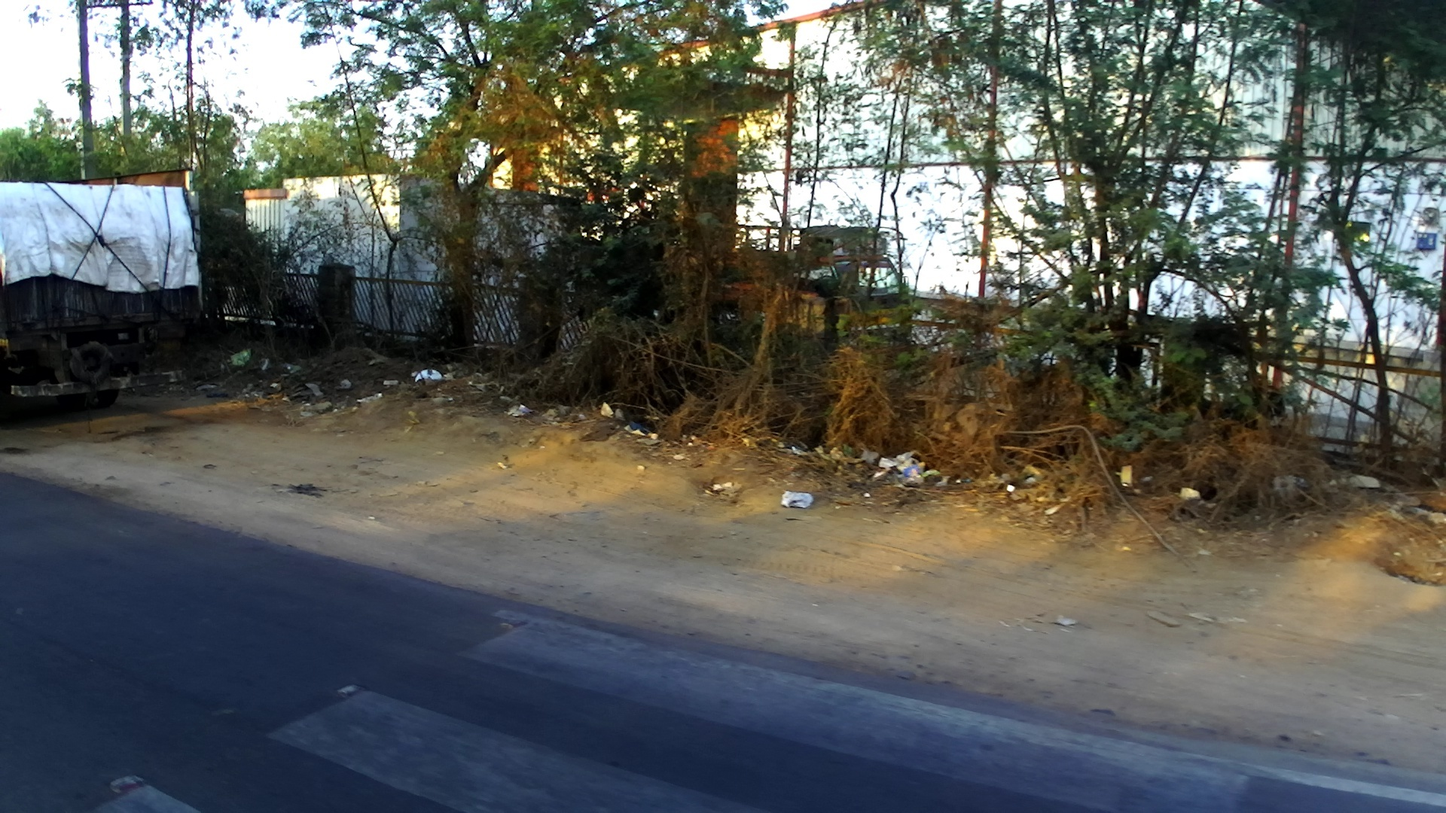truck: (2, 177, 207, 429)
